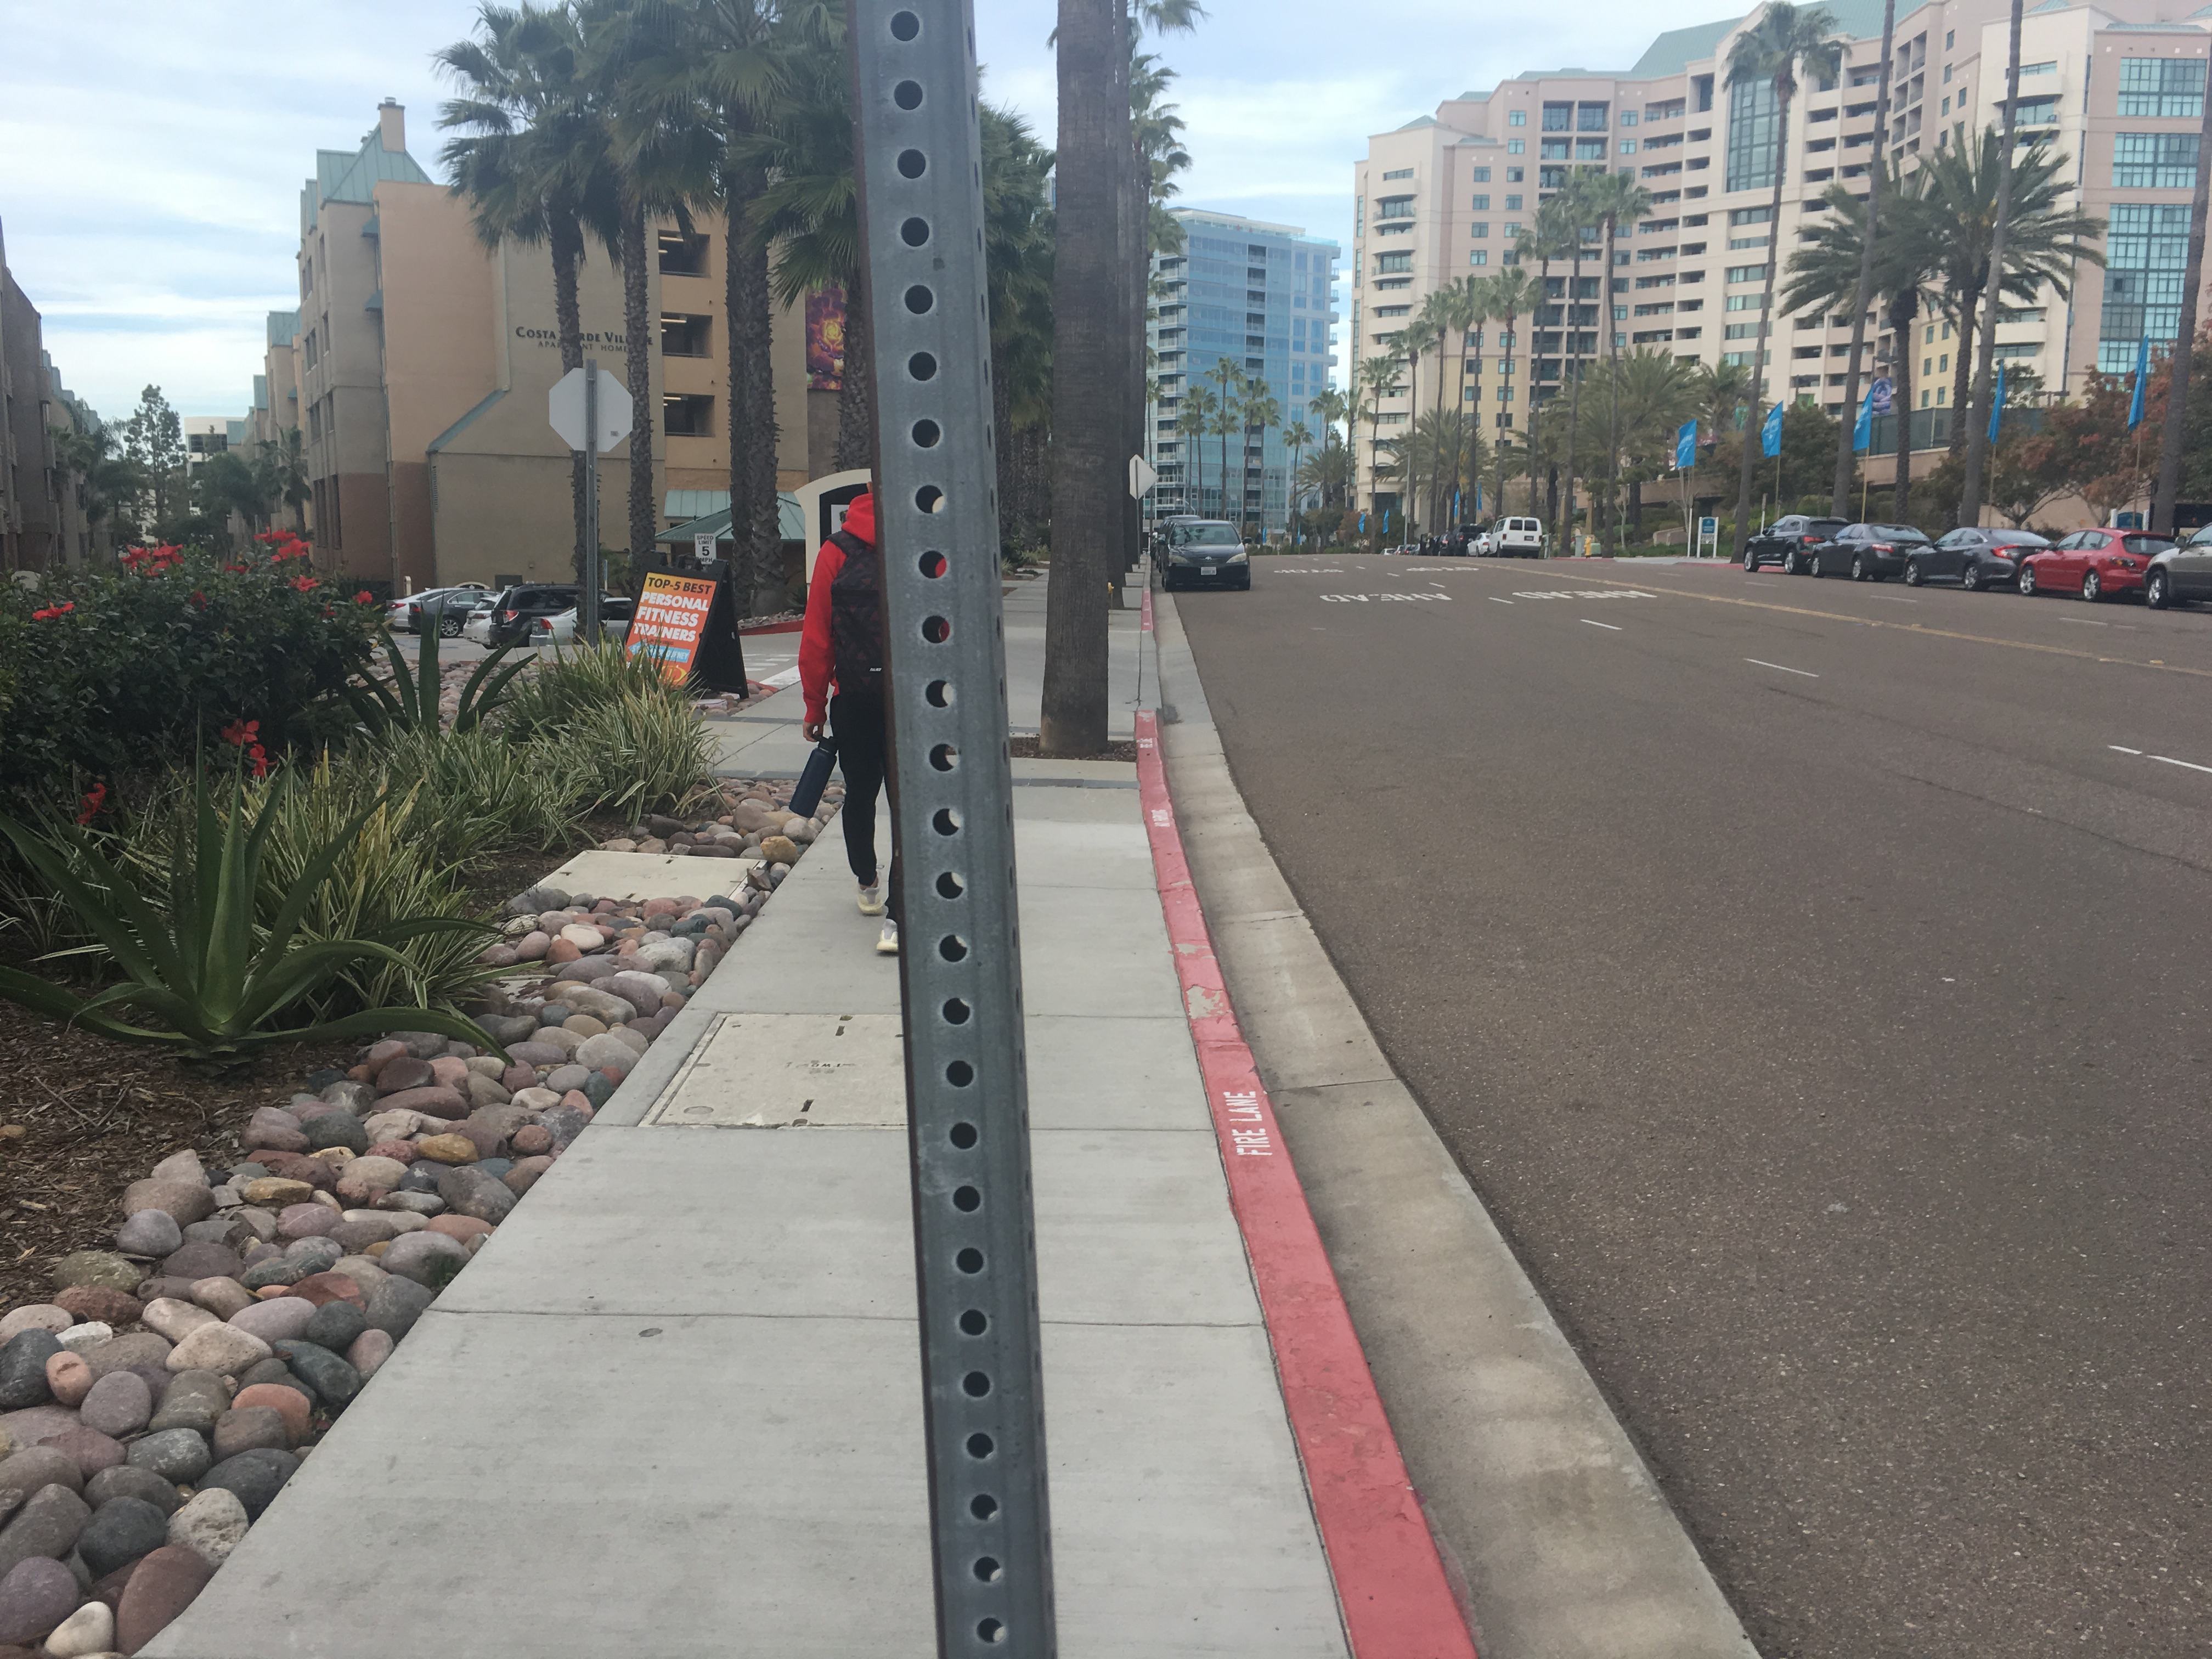Edge: (132, 807, 840, 1656), (1150, 720, 1477, 1654)
Obstacle: (845, 5, 1082, 1654), (1029, 12, 1132, 758), (794, 495, 894, 958), (1737, 519, 2207, 606), (627, 572, 733, 692)
